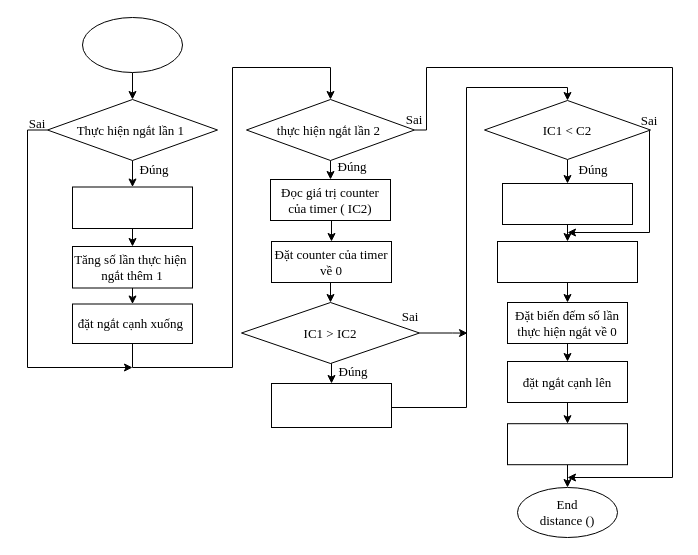
Image size: 698x555. Some labels were removed from this diagram. The centre of each missing label's shape, as x and y in pixels:
Begin distance (): point 132,44
Không cho phép ngắt input capture: point 567,444
Tính khoảng cách: distance = (diff*0.343)/2: point 567,261
Tính độ rộng xung: diff = (0xffff -IC1)+IC2: point 567,203
Tính độ rộng xung: diff = IC1 - IC2: point 331,405
Đọc giá trị counter của timer ( IC1): point 132,207
